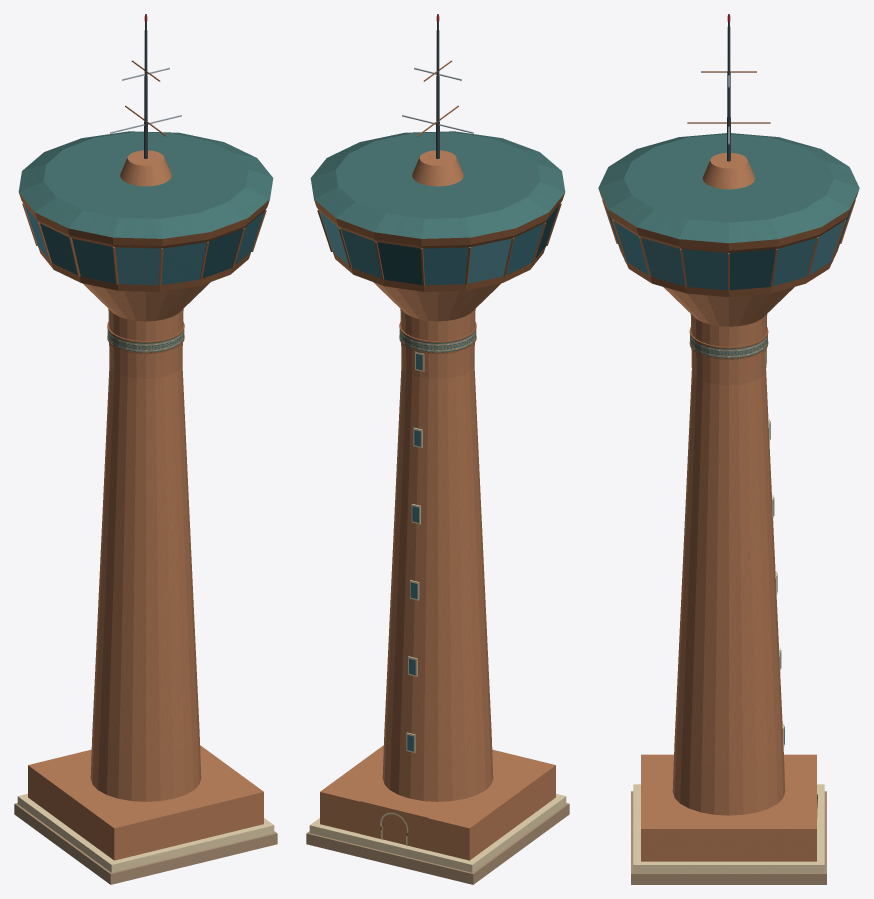
Rendered from tower_medium.glb.
3 renders of one model, left to right at view 1: azimuth 30°, elevation 25°; view 2: azimuth 150°, elevation 25°; view 3: azimuth 270°, elevation 25°, orthographic.
Visible parts, largest first — view 1: tower_medium; view 2: tower_medium; view 3: tower_medium.
Part boxes in pixels (x1,y1,x2,y2): tower_medium: (14, 14, 277, 884); tower_medium: (306, 14, 569, 884); tower_medium: (598, 14, 859, 884).
Bounding box in the file's own units: 16 × 56 × 16.
13 materials, 13 textured.
